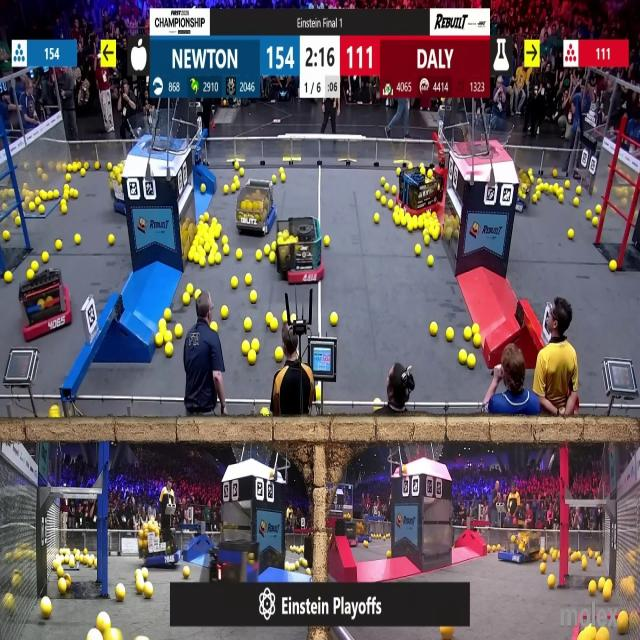ball_ground: (41, 597, 52, 618), (115, 585, 125, 602), (144, 583, 153, 600), (49, 406, 59, 419), (276, 347, 284, 362), (60, 580, 68, 595), (598, 628, 608, 640), (165, 344, 174, 357), (242, 342, 250, 356), (467, 354, 475, 368), (603, 588, 611, 602), (316, 384, 323, 400), (136, 582, 144, 595), (589, 582, 597, 595), (175, 323, 182, 337), (330, 312, 337, 326), (429, 321, 436, 335), (459, 350, 466, 364), (472, 336, 480, 348), (165, 309, 173, 321), (248, 352, 256, 364), (155, 335, 162, 348), (4, 273, 12, 284), (215, 252, 222, 264), (250, 290, 257, 302), (42, 251, 49, 263), (447, 328, 454, 340), (220, 306, 227, 318), (432, 229, 439, 241), (237, 248, 244, 260), (464, 328, 471, 340), (582, 558, 589, 570), (70, 188, 78, 198), (182, 293, 189, 304), (208, 253, 215, 264), (243, 274, 250, 285), (416, 244, 422, 256), (232, 277, 238, 289), (183, 566, 189, 578), (262, 409, 270, 418), (324, 236, 330, 248), (244, 321, 250, 333), (165, 333, 173, 342), (252, 340, 258, 352), (267, 312, 273, 324), (282, 312, 288, 324), (374, 213, 381, 223), (609, 262, 616, 272), (200, 257, 207, 267), (57, 237, 64, 247), (187, 251, 194, 261), (428, 255, 434, 266), (75, 234, 81, 245), (142, 568, 148, 579), (272, 320, 278, 331), (471, 323, 478, 332), (231, 183, 238, 192), (539, 563, 546, 572), (222, 246, 228, 256), (57, 240, 63, 250), (32, 262, 38, 272), (14, 216, 20, 226), (59, 566, 65, 576), (212, 321, 218, 331), (593, 216, 599, 226), (270, 252, 276, 262), (29, 271, 35, 281), (384, 182, 390, 192), (4, 232, 10, 242), (573, 198, 579, 208), (265, 245, 271, 255), (231, 280, 237, 290), (290, 313, 296, 323), (542, 184, 549, 192), (160, 319, 167, 327), (64, 189, 70, 198), (408, 222, 414, 231), (424, 236, 430, 245), (186, 295, 192, 304), (568, 230, 573, 240), (256, 250, 261, 260), (216, 223, 221, 233), (62, 206, 68, 214), (66, 174, 72, 182), (388, 200, 394, 208), (46, 190, 52, 198), (197, 288, 203, 296), (55, 189, 61, 197), (223, 184, 228, 193), (273, 175, 278, 184), (195, 289, 200, 298), (552, 552, 557, 561), (587, 210, 592, 219), (597, 580, 602, 589), (596, 206, 602, 213), (95, 164, 101, 171), (80, 169, 85, 177), (391, 185, 396, 193), (187, 284, 192, 292), (83, 163, 88, 171), (381, 177, 386, 185), (304, 560, 309, 568), (532, 194, 537, 202), (40, 205, 44, 214), (388, 551, 392, 560), (281, 174, 285, 183), (240, 168, 244, 177), (377, 190, 381, 199), (555, 184, 559, 193), (212, 218, 218, 224), (420, 219, 424, 228), (235, 176, 240, 183), (576, 186, 580, 194), (554, 170, 558, 178), (202, 184, 206, 192), (108, 164, 112, 172), (236, 163, 240, 171), (566, 184, 571, 190), (65, 184, 70, 190), (308, 568, 312, 575), (374, 215, 378, 222), (528, 169, 532, 176), (530, 176, 534, 183), (536, 178, 540, 184), (536, 196, 540, 202), (295, 562, 298, 568), (553, 552, 557, 556), (583, 560, 585, 568)
goal: (460, 117, 515, 158), (131, 118, 189, 152)
robot_blue: (238, 180, 278, 237), (139, 521, 183, 568), (500, 526, 544, 563), (346, 522, 372, 546)
robot_red: (19, 271, 72, 341), (278, 218, 325, 284), (397, 163, 444, 213)
